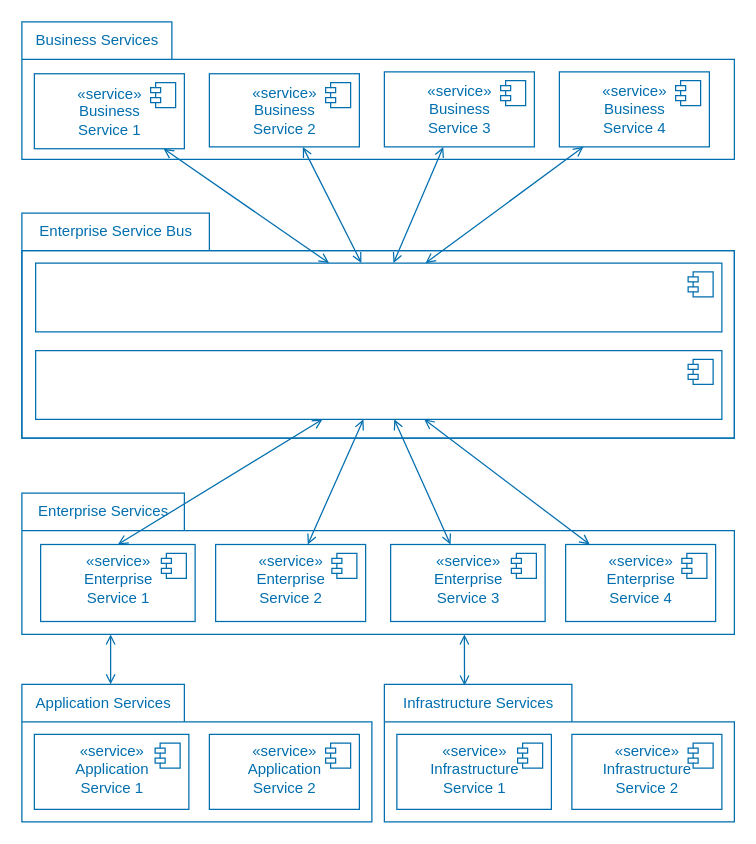
Image size: 756x844. Some labels were removed from this diagram. The shapes that lost their labels are listed below. From the top down, each one's centre as x and y in pixels, then its label:
pixel 378 297: Orchestration Engine
pixel 378 384: Integration Hub
